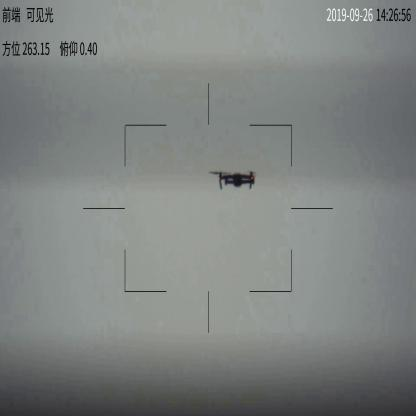uav: (208, 169, 263, 192)
